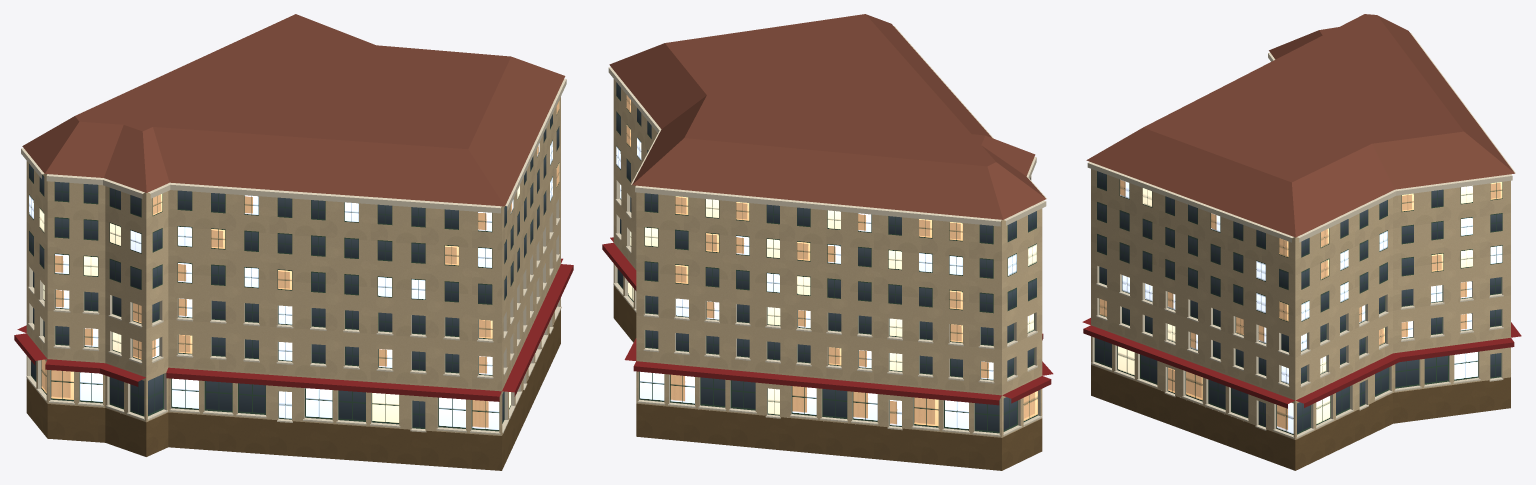
File: albis_ost.glb
3 renders of one model, left to right at view 1: azimuth 30°, elevation 25°; view 2: azimuth 150°, elevation 25°; view 3: azimuth 270°, elevation 25°, orthographic. The views are drawn at different scales.
Parts seen in each view (by area): view 1: albis_ost; view 2: albis_ost; view 3: albis_ost.
Boxes of the visible parts, x1=… form: albis_ost: x1=14, y1=14, x2=573, y2=470; albis_ost: x1=602, y1=14, x2=1053, y2=470; albis_ost: x1=1082, y1=14, x2=1521, y2=470.
Size of the model in its own units: 45.16 by 25.91 by 38.79.
Materials: 3 (3 with a texture image).
